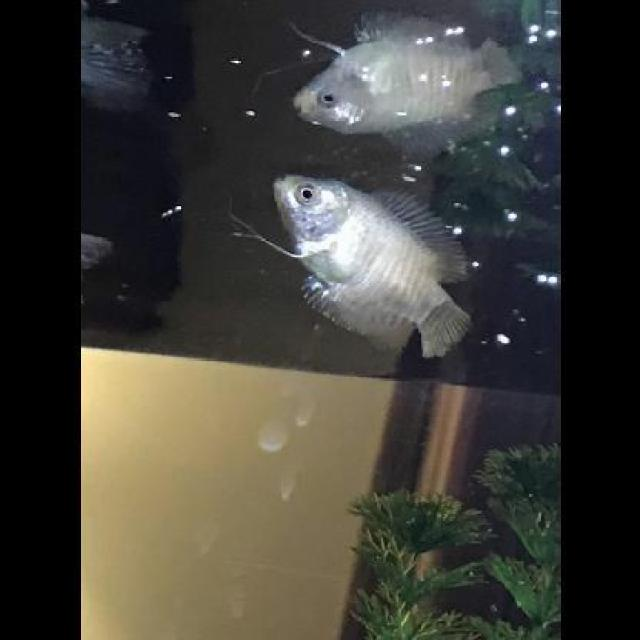Gourami: (258, 175, 472, 358)
